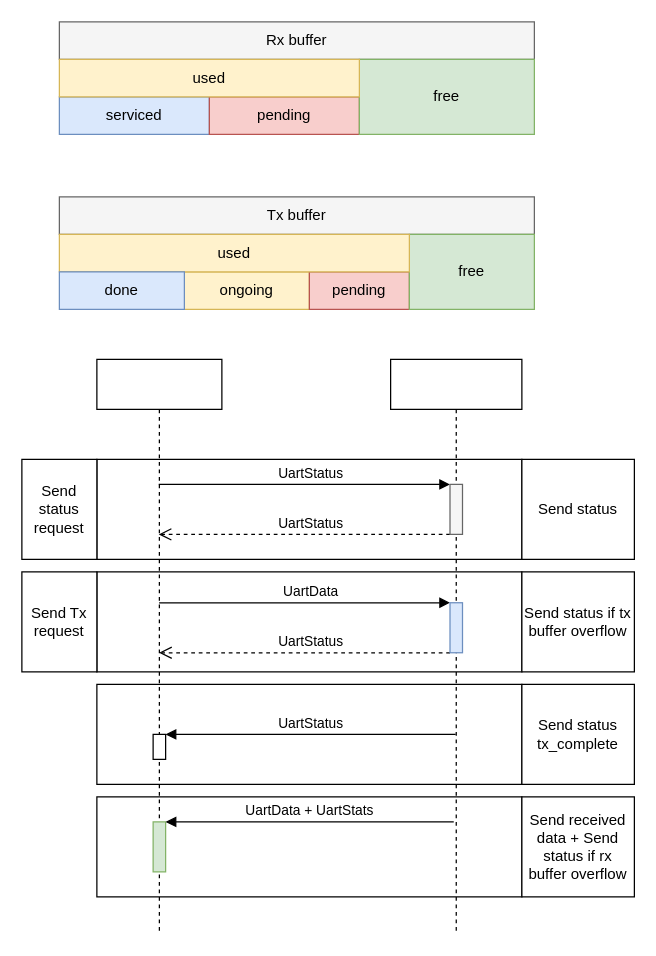
The diagram is 656 pixels wide and 956 high, and some of its shapes have lost their labels. Here are the shapes that lost their labels. From the top down, the box of each, then its label:
(96, 358, 222, 934): PC
(389, 358, 522, 934): Device
